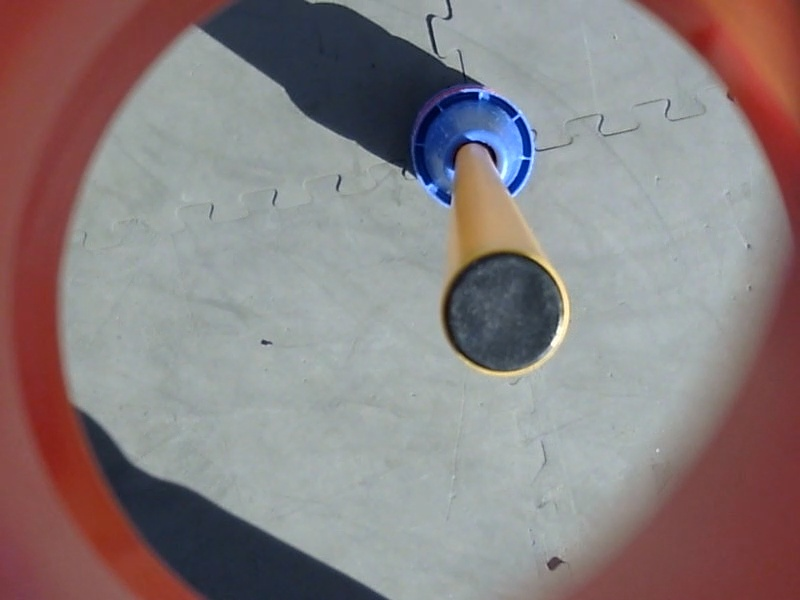tip: (436, 243, 577, 382)
